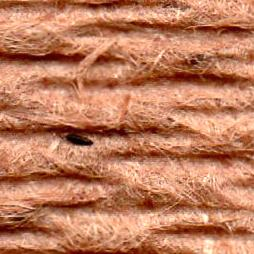egg: (66, 134, 92, 143)
